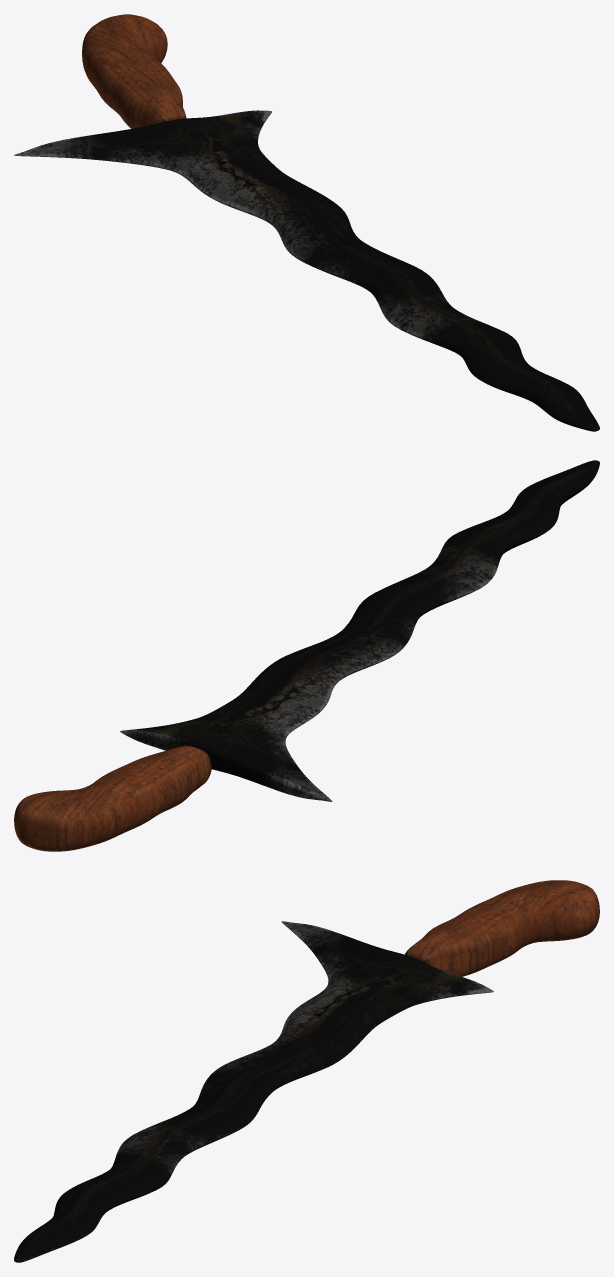
Rendered from keris.glb.
3 views of the same model, one above another, from view 1: azimuth 30°, elevation 25°; view 2: azimuth 150°, elevation 25°; view 3: azimuth 330°, elevation 25° (orthographic). The views are drawn at different scales.
Visible parts, largest first — view 1: Object_2, Object_3; view 2: Object_2, Object_3; view 3: Object_2, Object_3.
Boxes of the visible parts, left/top/right/bottom form: Object_2: left=14, top=110, right=599, bottom=431; Object_3: left=82, top=14, right=186, bottom=128; Object_2: left=120, top=460, right=599, bottom=801; Object_3: left=14, top=745, right=211, bottom=851; Object_2: left=14, top=921, right=493, bottom=1262; Object_3: left=405, top=880, right=599, bottom=976.
Size of the model in its own units: 2.84 by 0.5595 by 11.01.
Materials: 2 (2 with a texture image).
